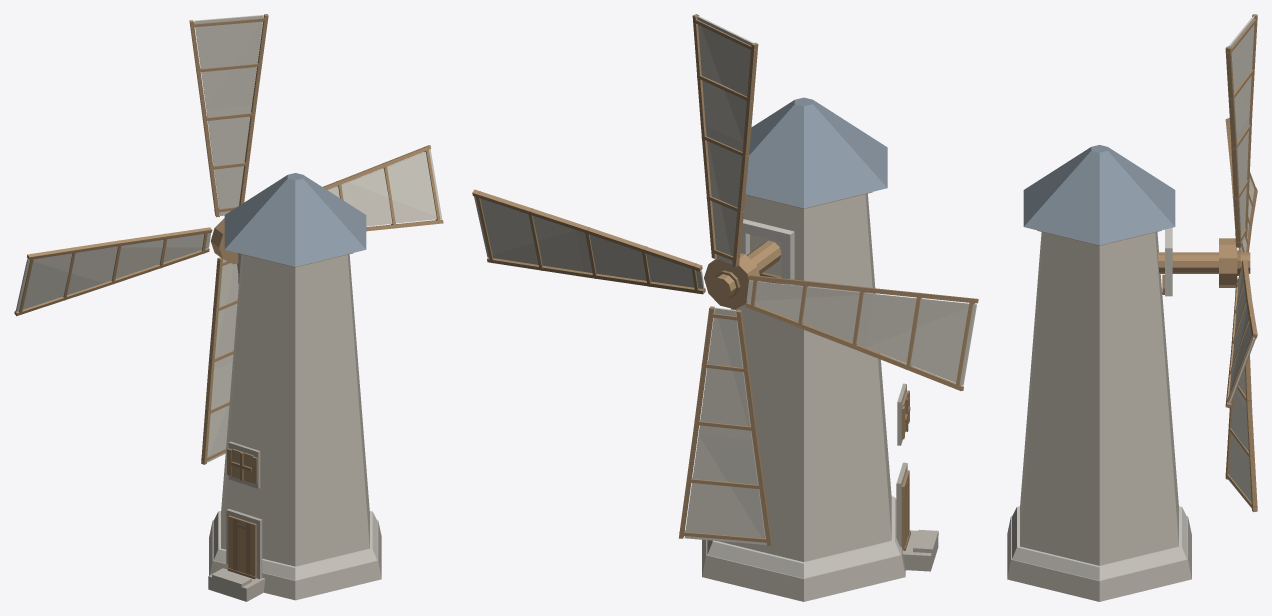
3 views of the same model, side by side, from view 1: azimuth 30°, elevation 25°; view 2: azimuth 150°, elevation 25°; view 3: azimuth 270°, elevation 25° (orthographic). The views are drawn at different scales.
Parts seen in each view (by area): view 1: Body, RotorPivot; view 2: Body, RotorPivot; view 3: Body, RotorPivot.
Boxes of the visible parts, x1,y1,x2,y2 form: Body: [208, 173, 381, 601]; RotorPivot: [14, 14, 443, 464]; Body: [702, 97, 938, 601]; RotorPivot: [472, 14, 978, 545]; Body: [1007, 145, 1250, 601]; RotorPivot: [1225, 14, 1257, 512].
Size of the model in its own units: 11.8 by 13.38 by 5.78.
